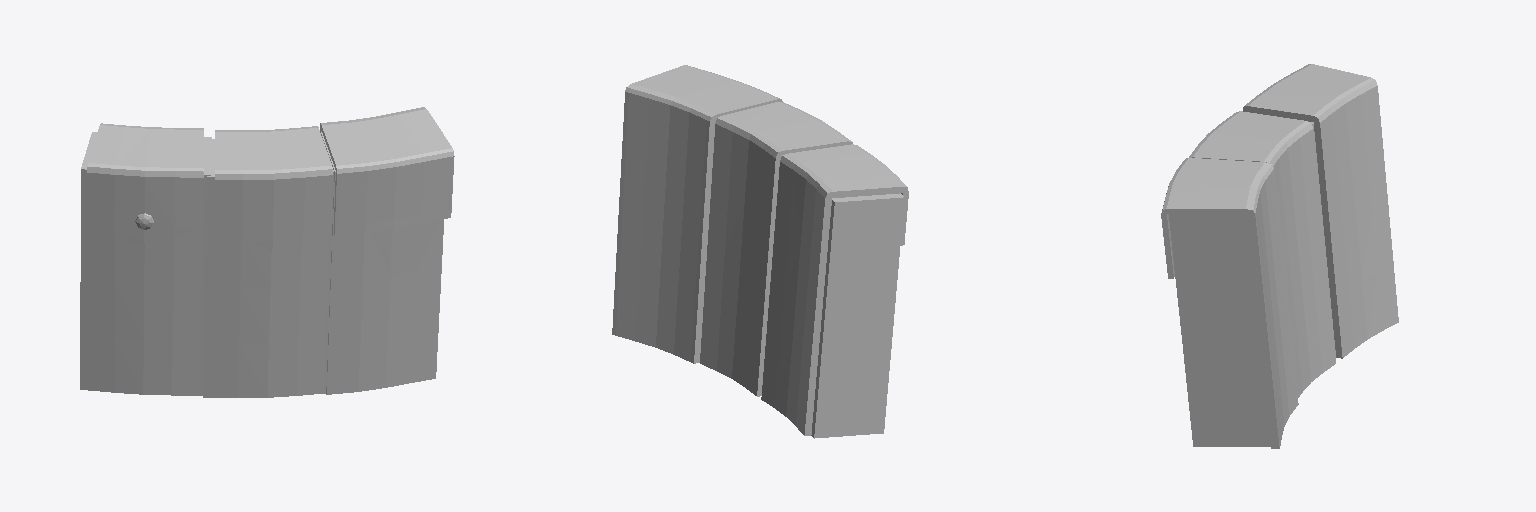
3 renders of one model, left to right at view 1: azimuth 30°, elevation 25°; view 2: azimuth 150°, elevation 25°; view 3: azimuth 270°, elevation 25°, orthographic.
Parts seen in each view (by area): view 1: Bag_mtr_G11_V100.050; view 2: Bag_mtr_G11_V100.050; view 3: Bag_mtr_G11_V100.050.
Boxes of the visible parts, <box> form: Bag_mtr_G11_V100.050: <box>80,107,454,397</box>; Bag_mtr_G11_V100.050: <box>612,65,908,438</box>; Bag_mtr_G11_V100.050: <box>1161,64,1398,448</box>.
Bounding box in the file's own units: 0.1406 × 0.1073 × 0.0928.